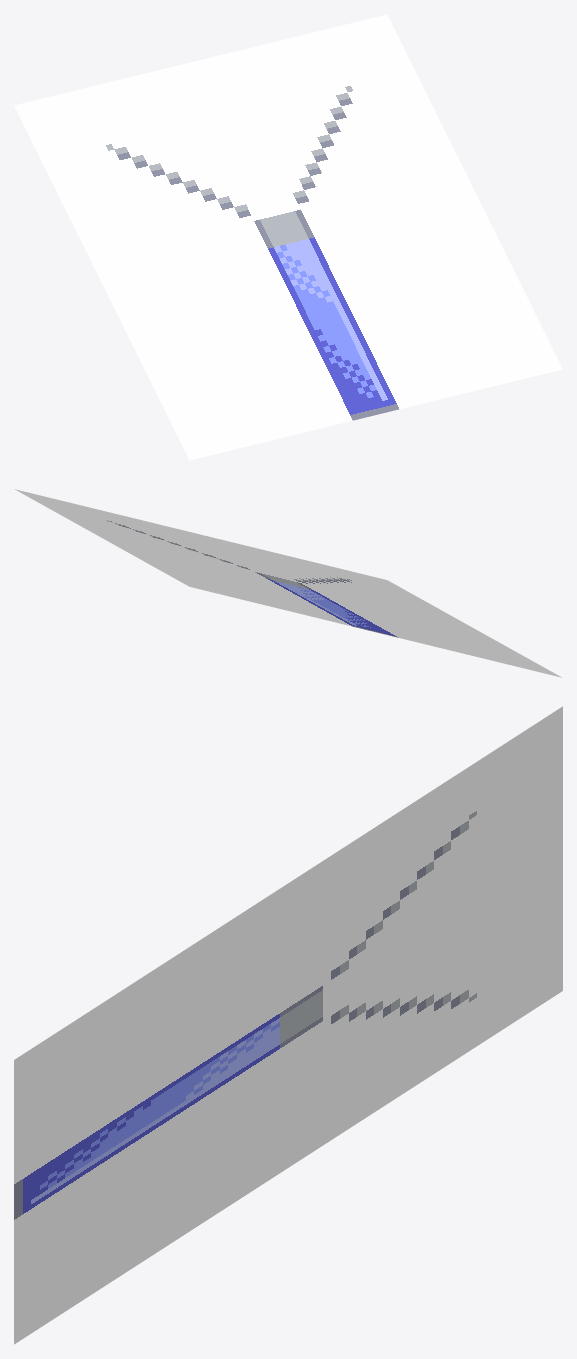
File: Necklace.glb
The picture shows the model from 3 angles, top to bottom: view 1: azimuth 30°, elevation 25°; view 2: azimuth 150°, elevation 25°; view 3: azimuth 270°, elevation 25°; orthographic projection. The views are drawn at different scales.
Parts seen in each view (by area): view 1: Necklace; view 2: Necklace; view 3: Necklace.
Boxes of the visible parts, x1=… form: Necklace: x1=14, y1=14, x2=562, y2=460; Necklace: x1=15, y1=489, x2=561, y2=677; Necklace: x1=14, y1=706, x2=562, y2=1344.
Bounding box in the file's own units: 0.1009 × 0.0585 × 0.0822.
1 material, 1 textured.
